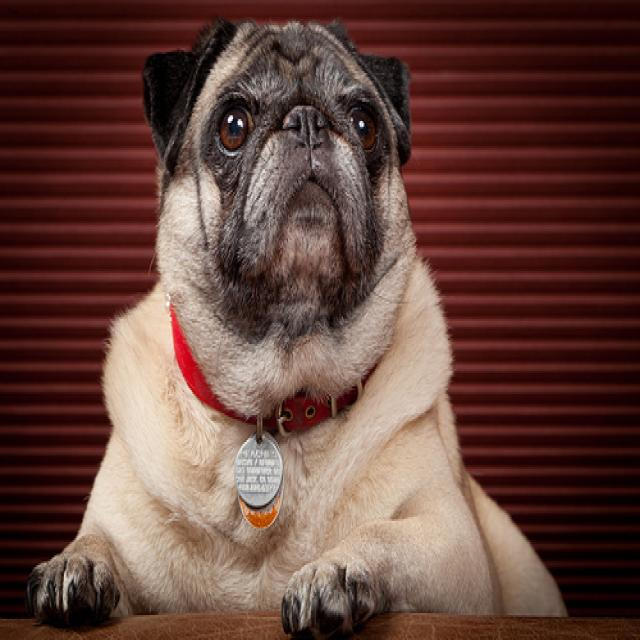dog-pug: (24, 4, 579, 636)
